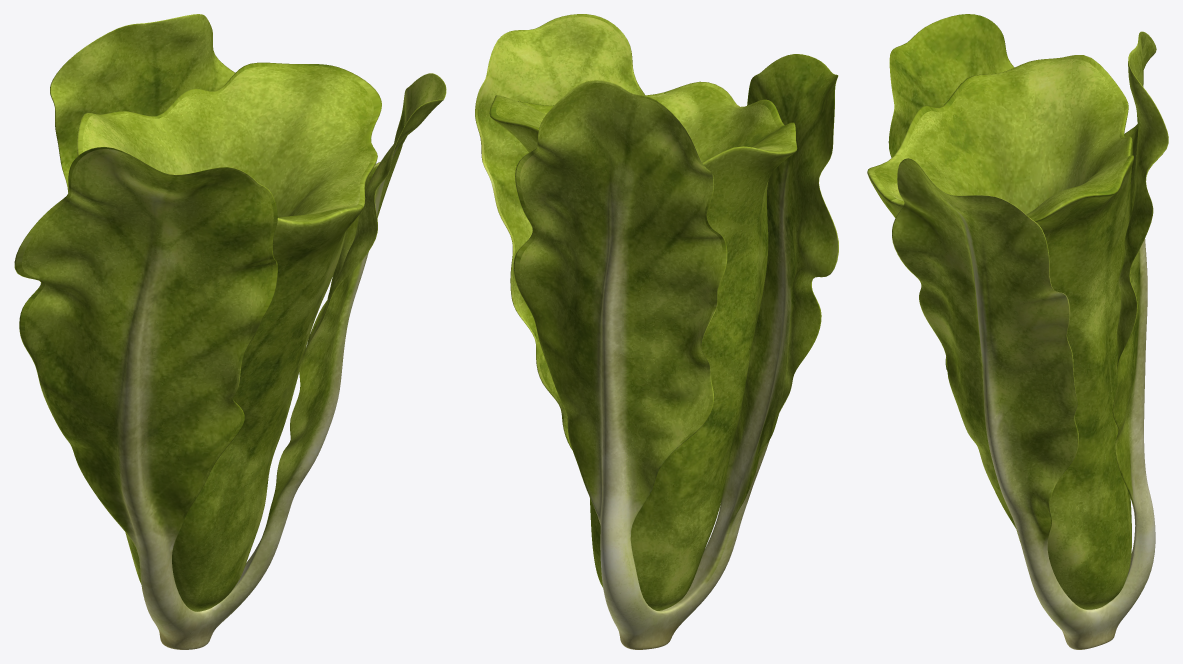
File: VegetablesLettuce.fbx
3 renders of one model, left to right at view 1: azimuth 30°, elevation 25°; view 2: azimuth 150°, elevation 25°; view 3: azimuth 270°, elevation 25°, orthographic. The views are drawn at different scales.
Visible parts, largest first — view 1: 10188_LettuceRomaine_v1-L2; view 2: 10188_LettuceRomaine_v1-L2; view 3: 10188_LettuceRomaine_v1-L2.
Part boxes in pixels (x1,y1,x2,y2): 10188_LettuceRomaine_v1-L2: (14,14,446,649); 10188_LettuceRomaine_v1-L2: (475,14,838,649); 10188_LettuceRomaine_v1-L2: (867,14,1168,649).
Bounding box in the file's own units: 2445 × 3646 × 1684.
Materials: 1 (1 with a texture image).
